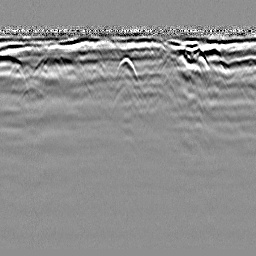cavity: (115, 55, 138, 84)
